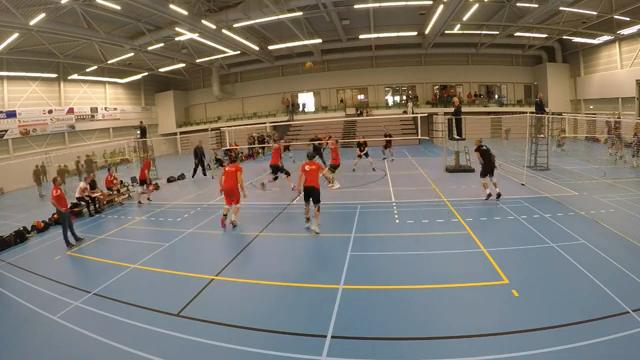Player: (298, 151, 325, 233), (219, 156, 245, 228), (474, 139, 501, 199), (269, 143, 293, 188), (352, 136, 375, 171), (309, 135, 325, 165), (382, 127, 393, 161), (282, 137, 295, 162)
Set: (320, 134, 344, 191)
ball: (303, 61, 313, 70)
